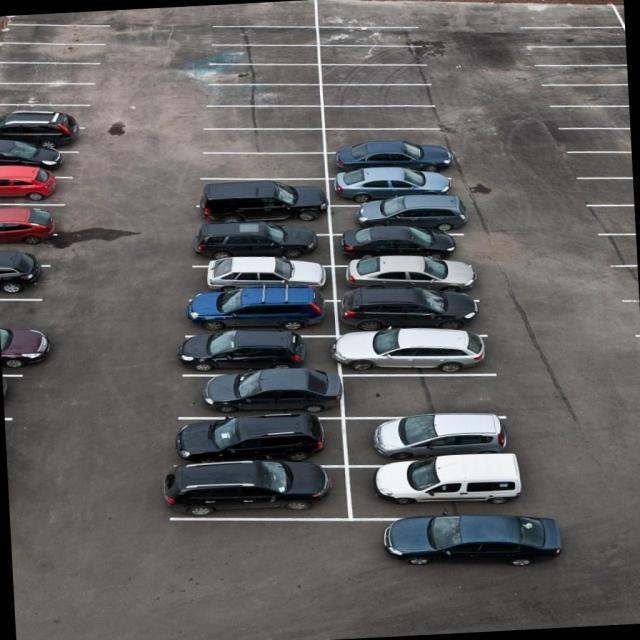car: (180, 410, 348, 470), (352, 458, 524, 516), (176, 468, 352, 522), (178, 366, 338, 421), (346, 411, 509, 461), (189, 288, 332, 343), (342, 326, 497, 374), (182, 328, 336, 376), (335, 287, 490, 332), (185, 256, 325, 300), (343, 250, 490, 290), (326, 200, 478, 236), (321, 224, 471, 260), (188, 232, 328, 270), (324, 168, 461, 205), (194, 196, 324, 232), (324, 143, 454, 179), (0, 130, 77, 173), (0, 113, 76, 155), (0, 160, 60, 210), (1, 325, 49, 373), (0, 290, 48, 332), (0, 203, 58, 236), (0, 264, 50, 302), (0, 233, 47, 271)
free: (337, 370, 514, 417), (196, 144, 328, 184), (196, 122, 320, 158), (195, 172, 327, 205), (0, 72, 91, 115), (205, 79, 327, 110), (324, 79, 446, 109), (324, 102, 454, 130), (512, 0, 622, 33), (201, 102, 326, 130), (211, 60, 321, 90), (327, 120, 452, 146), (214, 20, 317, 50), (7, 20, 102, 52), (218, 42, 323, 70), (1, 55, 84, 89), (322, 42, 432, 66), (215, 1, 318, 26), (532, 41, 626, 68), (525, 27, 626, 52), (8, 39, 90, 69), (320, 62, 420, 86), (321, 22, 418, 46), (320, 1, 412, 26), (8, 11, 102, 35), (0, 100, 76, 129), (547, 61, 628, 87), (550, 84, 629, 110), (566, 132, 632, 157), (583, 151, 633, 181), (569, 105, 630, 129)
